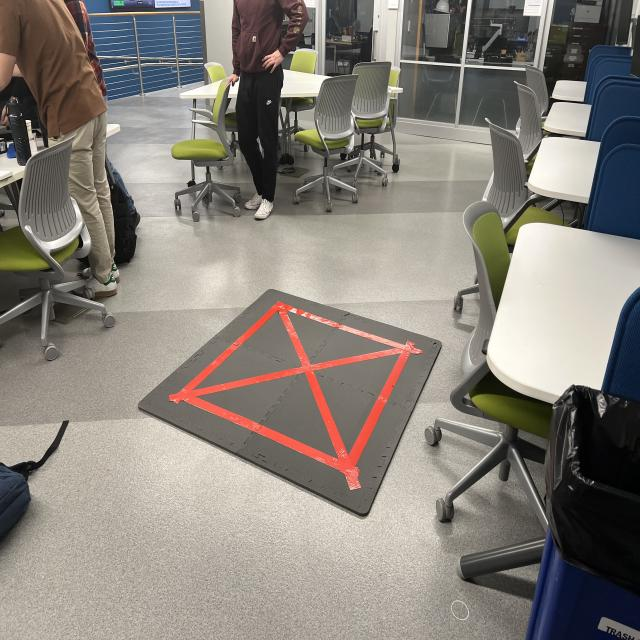landingPads: (140, 287, 448, 515)
